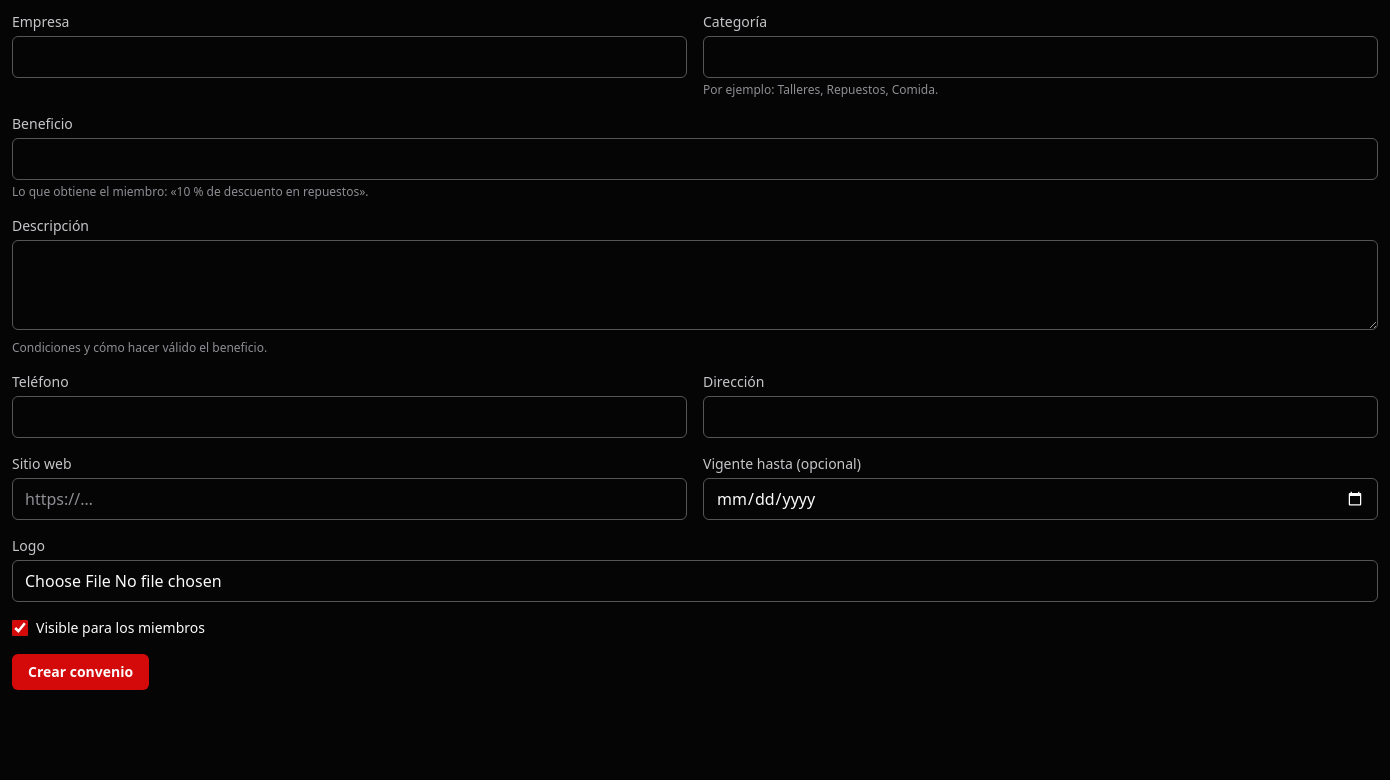
PartnerForm › rechaza un sitio web inválido
Type "Taller El Lobo" into the field labelled "Empresa" at (350, 57), box [12,36,687,78]
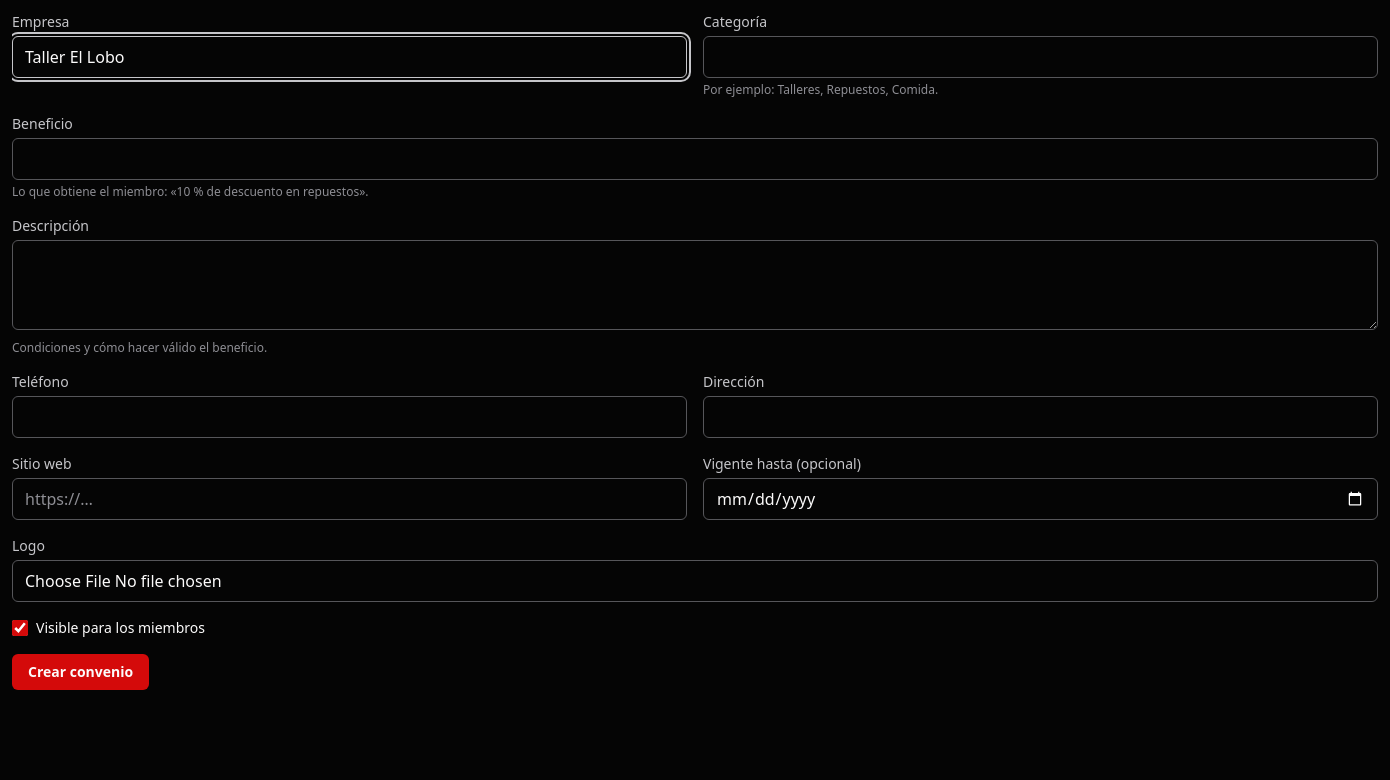
Type "10 % en repuestos" into the field labelled "Beneficio" at (695, 159), box [12,138,1378,180]
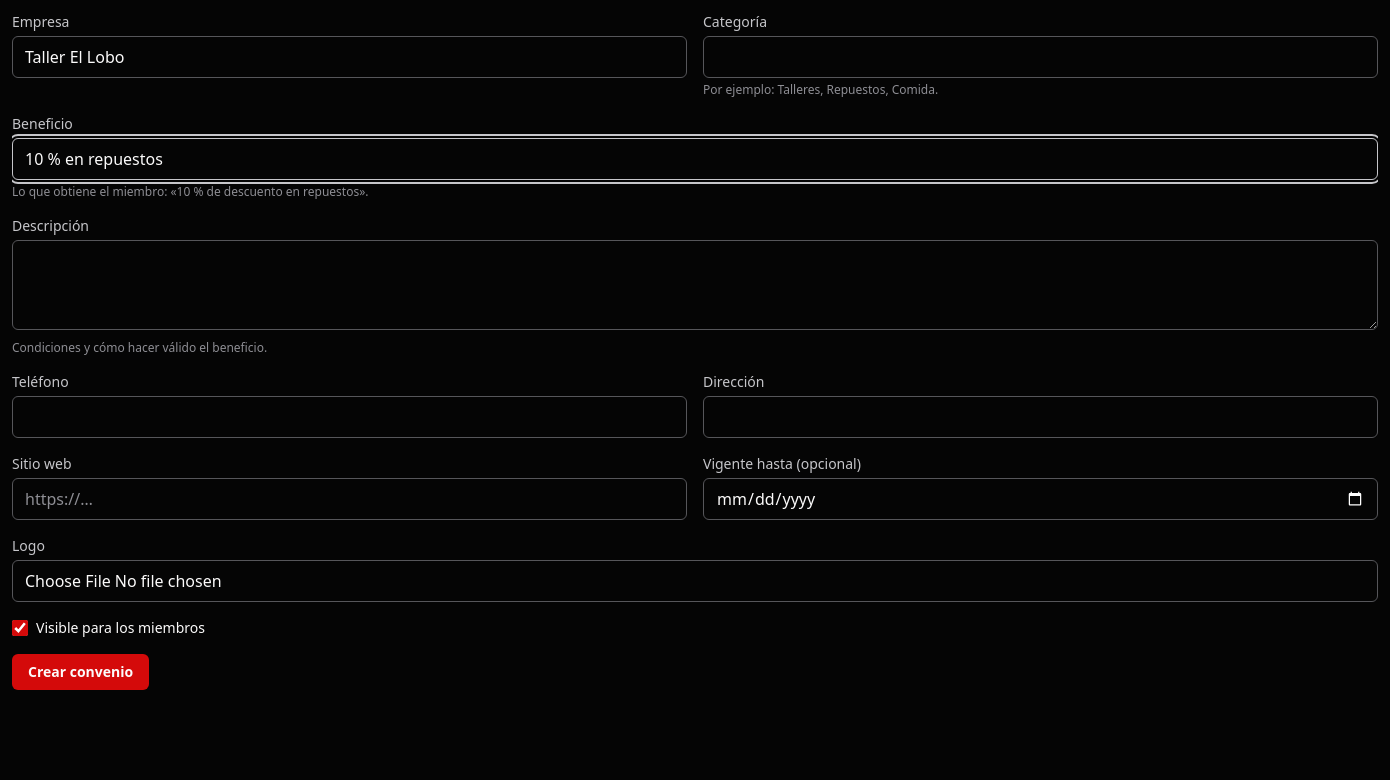
Type "javascript:alert(1)" into the field labelled "Sitio web" at (350, 499), box [12,478,687,520]
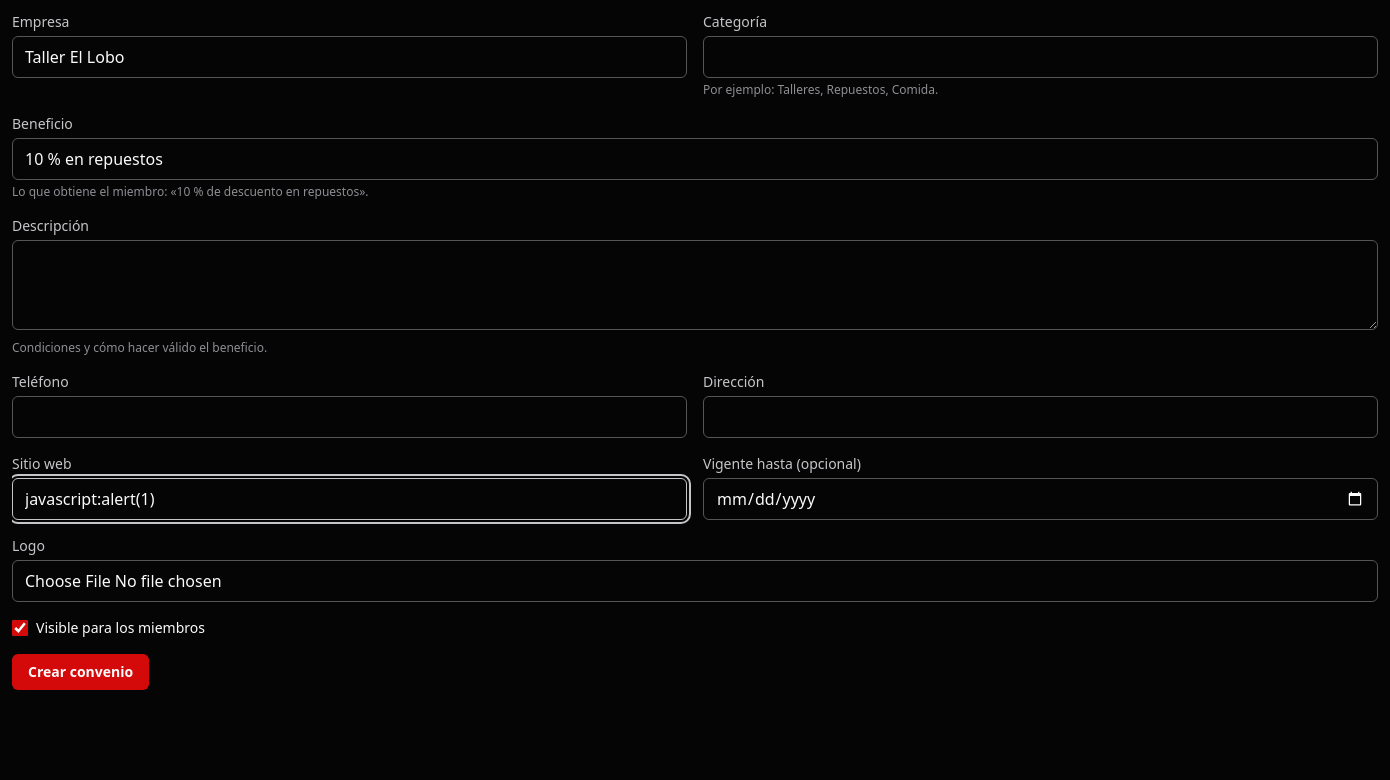
Click the button "Crear convenio" at (81, 672), box [12,654,149,690]
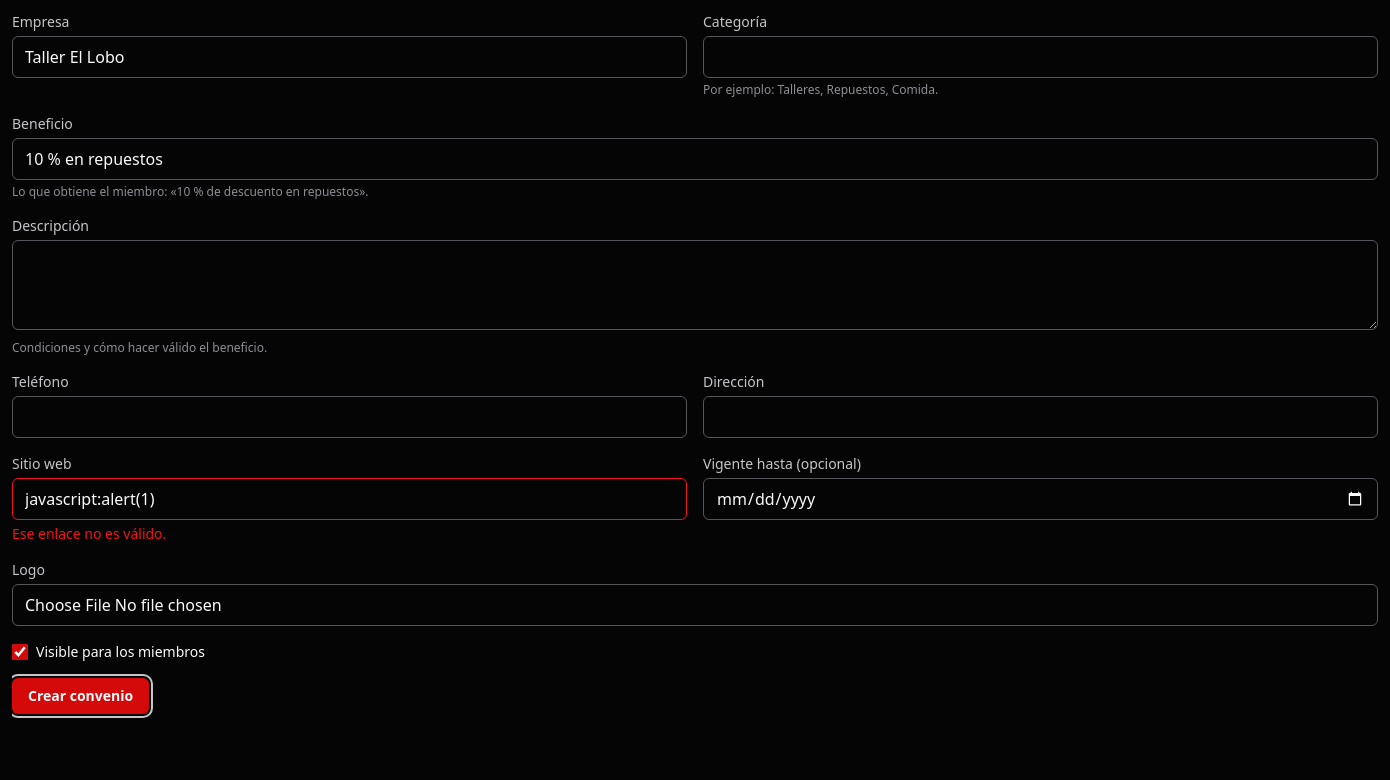
Check: the text "Ese enlace no es válido." is shown, box [12,524,166,543]
